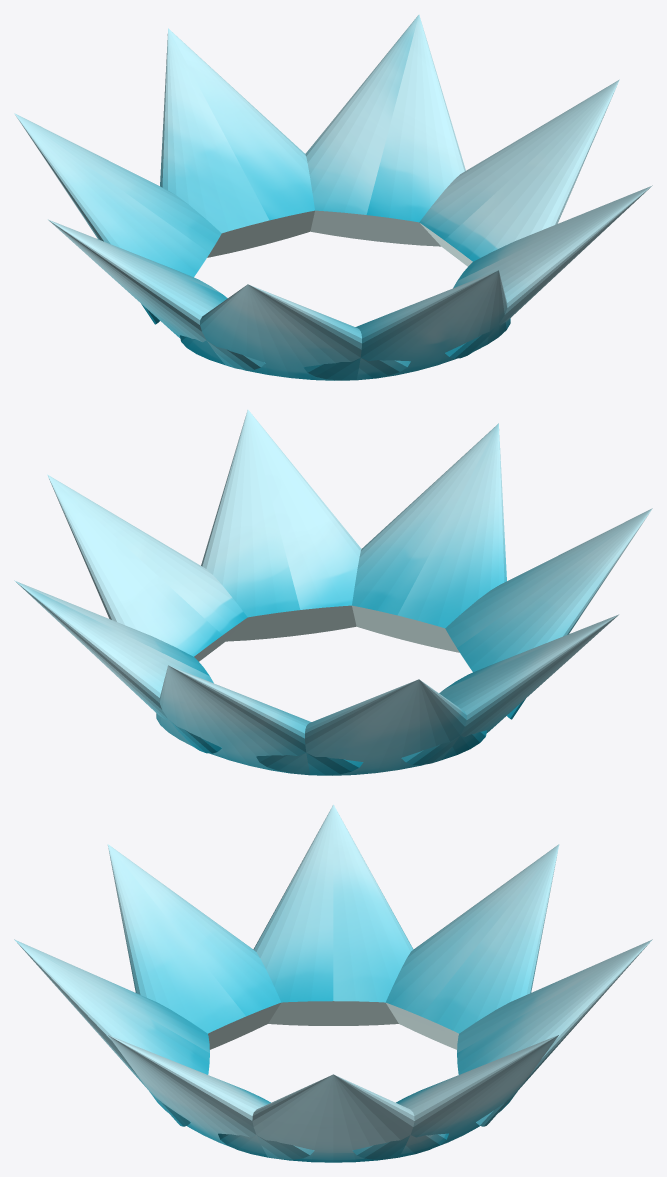
Rendered from wave.obj.
3 renders of one model, top to bottom at view 1: azimuth 30°, elevation 25°; view 2: azimuth 150°, elevation 25°; view 3: azimuth 270°, elevation 25°, orthographic. The views are drawn at different scales.
Parts seen in each view (by area): view 1: 円錐.005; view 2: 円錐.005; view 3: 円錐.005.
Boxes of the visible parts, x1,y1,x2,y2 form: 円錐.005: (14,14,652,380); 円錐.005: (14,409,652,775); 円錐.005: (14,804,652,1162).
Size of the model in its own units: 5.53 by 1.48 by 5.53.
Materials: 1 (1 with a texture image).
